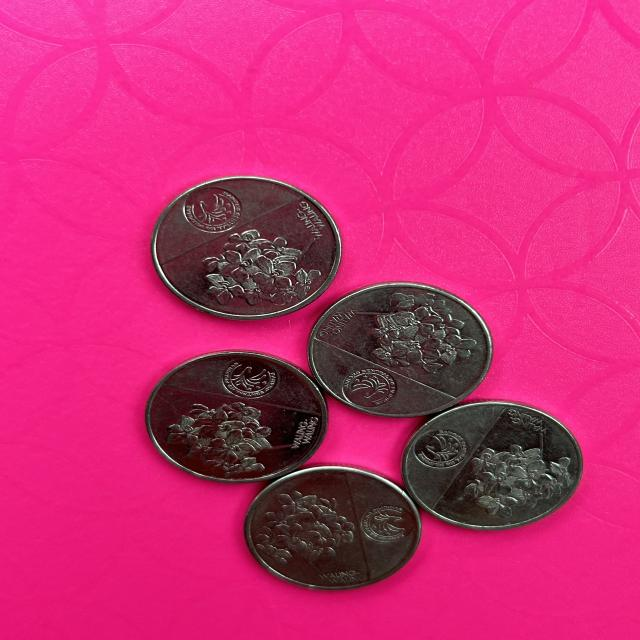1_New_Back: (187, 227, 322, 312), (366, 289, 474, 375), (162, 397, 276, 472), (254, 487, 352, 573), (468, 434, 564, 520)
